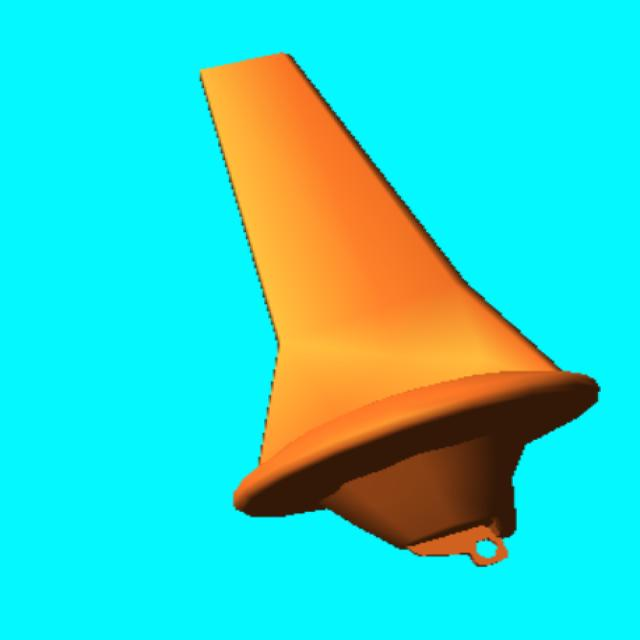OrangeBuoy: (200, 54, 598, 565)
